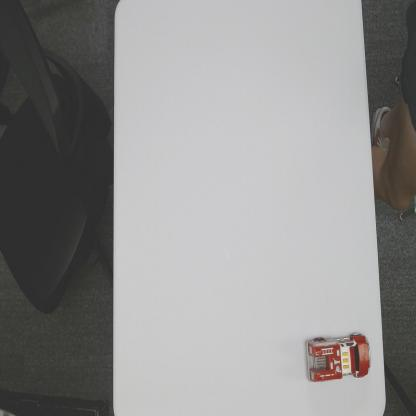Firetruck: (304, 332, 371, 384)
